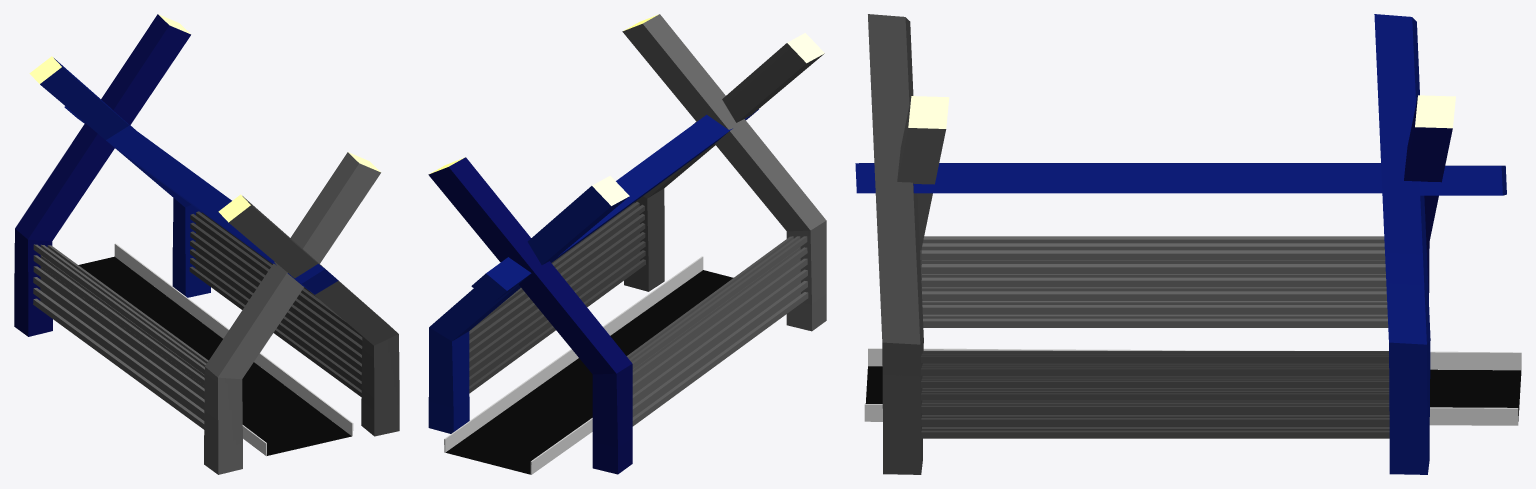
Rendered from yucatan_bridge.fbx.
The picture shows the model from 3 angles, left to right: view 1: azimuth 30°, elevation 25°; view 2: azimuth 150°, elevation 25°; view 3: azimuth 270°, elevation 25°; orthographic projection. The views are drawn at different scales.
Parts seen in each view (by area): view 1: Cube, Cube.001, Plane, Cube.003, Cube.002; view 2: Cube, Cube.001, Plane, Cube.002, Cube.003; view 3: Cube.001, Cube, Cube.002, Plane, Cube.003.
Part boxes in pixels (box(x1,y1,x2,y2)): Cube: box(33, 152, 381, 474); Cube.001: box(189, 194, 399, 436); Plane: box(78, 243, 353, 456); Cube.003: box(14, 14, 191, 336); Cube.002: box(29, 56, 338, 297); Cube: box(622, 14, 826, 426); Cube.001: box(469, 33, 824, 393); Plane: box(444, 256, 733, 474); Cube.002: box(428, 109, 758, 433); Cube.003: box(428, 157, 632, 474); Cube.001: box(868, 14, 1389, 474); Cube: box(897, 96, 1388, 327); Cube.002: box(855, 14, 1506, 474); Plane: box(864, 348, 1521, 425); Cube.003: box(1404, 95, 1455, 298).
Size of the model in its own units: 298 by 415 by 698.
